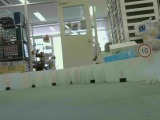speed_10: (137, 43, 152, 58)
